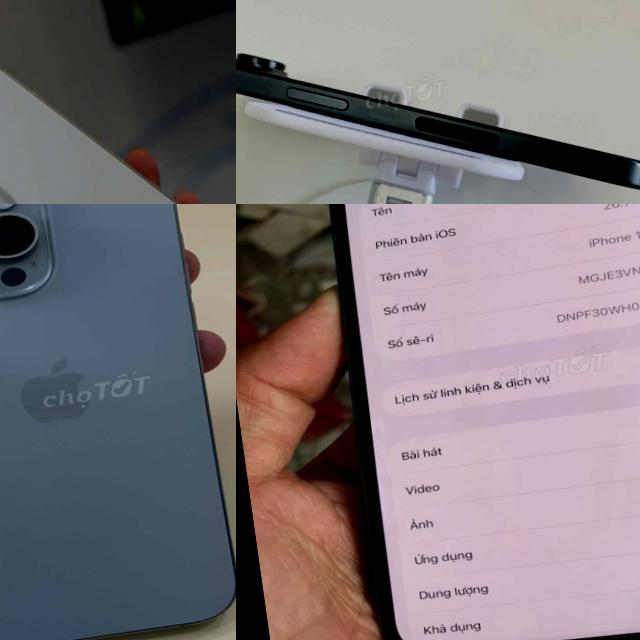gen_12_13: (330, 204, 640, 640)
gen_15: (0, 204, 236, 640), (236, 0, 640, 204), (0, 3, 236, 204)
